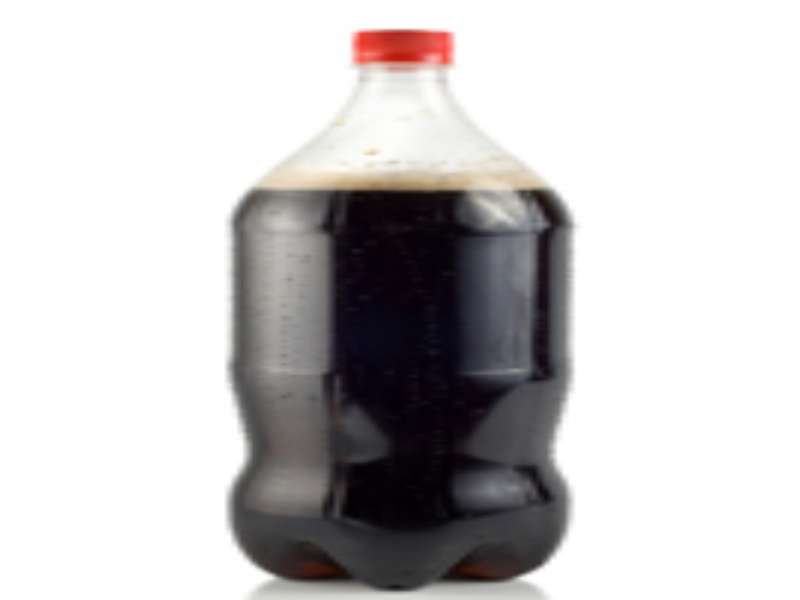Plastic bottle: (154, 9, 632, 591)
